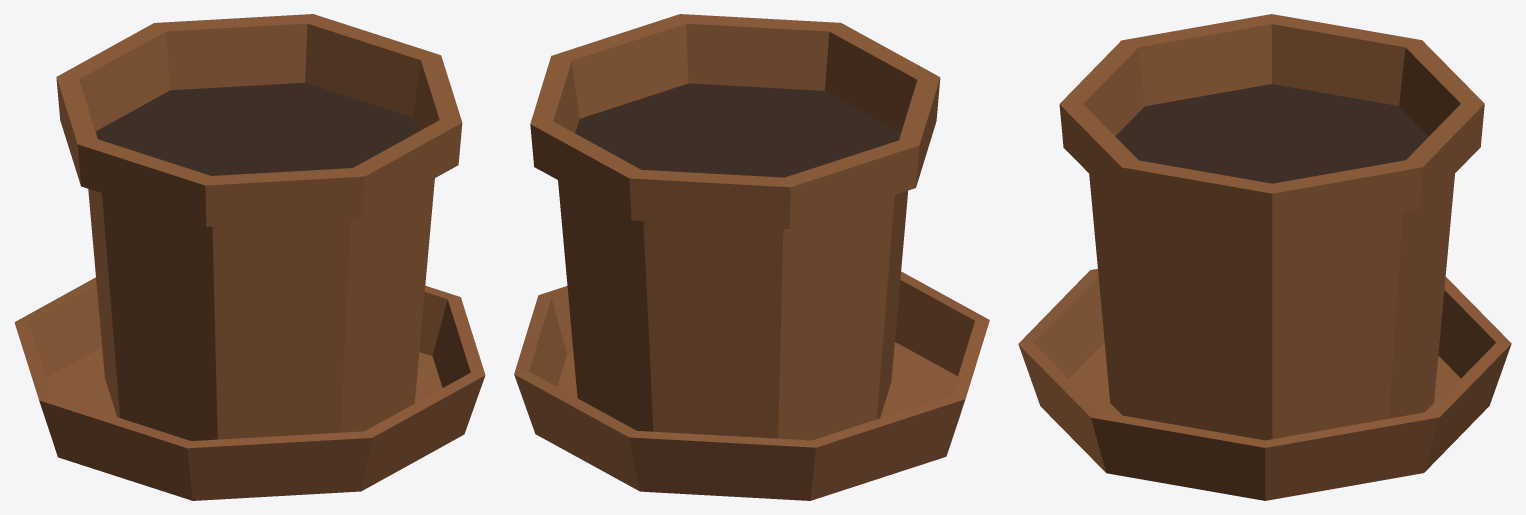
The model's file is flowerpot.glb.
3 views of the same model, side by side, from view 1: azimuth 30°, elevation 25°; view 2: azimuth 150°, elevation 25°; view 3: azimuth 270°, elevation 25° (orthographic).
Visible parts, largest first — view 1: Circle; view 2: Circle; view 3: Circle.
Part boxes in pixels (x1,y1,x2,y2): Circle: (14,14,485,500); Circle: (514,14,989,500); Circle: (1018,14,1511,500).
Bounding box in the file's own units: 2.2 × 1.52 × 2.2.
